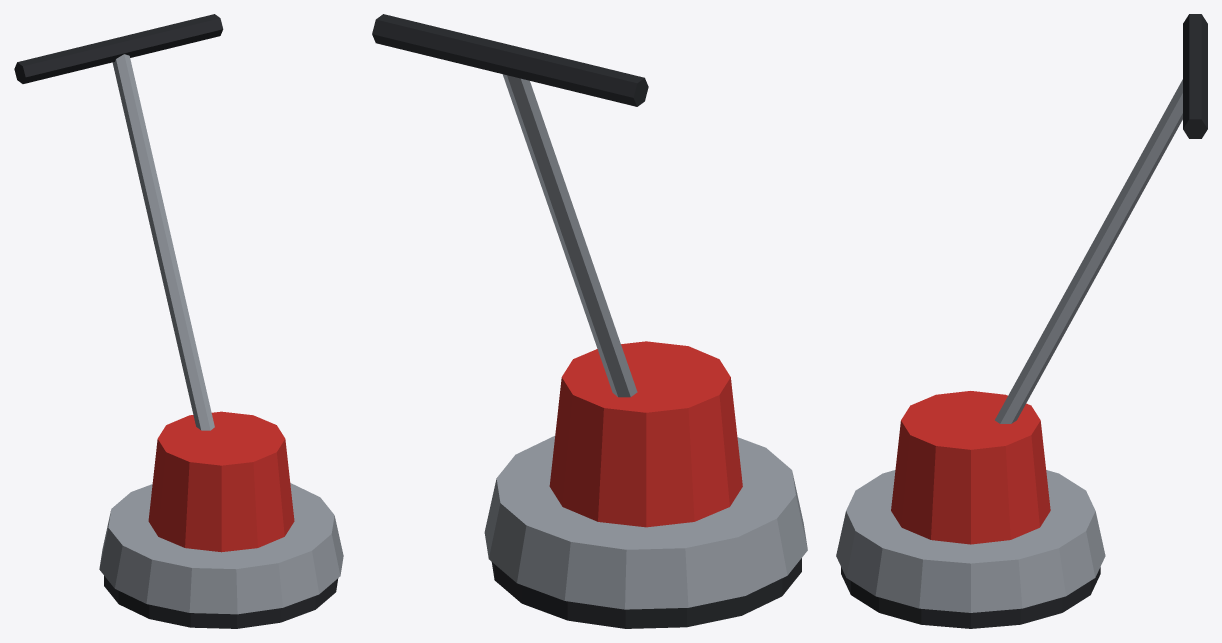
Rendered from floor_polisher.glb.
3 views of the same model, side by side, from view 1: azimuth 30°, elevation 25°; view 2: azimuth 150°, elevation 25°; view 3: azimuth 270°, elevation 25° (orthographic). The views are drawn at different scales.
Parts seen in each view (by area): view 1: disc_polisher_grey, motor_polisher_red, handle_polisher_grey, handle_polisher_black, disc_polisher_black; view 2: disc_polisher_grey, motor_polisher_red, handle_polisher_black, handle_polisher_grey, disc_polisher_black; view 3: disc_polisher_grey, motor_polisher_red, handle_polisher_grey, disc_polisher_black, handle_polisher_black.
Boxes of the visible parts, bbox=[...] form: disc_polisher_grey: bbox=[99, 483, 343, 614]; motor_polisher_red: bbox=[148, 411, 294, 552]; handle_polisher_grey: bbox=[112, 54, 214, 430]; handle_polisher_black: bbox=[14, 14, 223, 83]; disc_polisher_black: bbox=[104, 576, 338, 628]; disc_polisher_grey: bbox=[484, 436, 807, 609]; motor_polisher_red: bbox=[549, 341, 742, 527]; handle_polisher_black: bbox=[372, 14, 648, 106]; handle_polisher_grey: bbox=[502, 74, 637, 397]; disc_polisher_black: bbox=[491, 558, 801, 628]; disc_polisher_grey: bbox=[836, 470, 1105, 612]; motor_polisher_red: bbox=[891, 391, 1050, 544]; handle_polisher_grey: bbox=[995, 79, 1182, 423]; disc_polisher_black: bbox=[841, 567, 1100, 628]; handle_polisher_black: bbox=[1183, 14, 1207, 138].
Bounding box in the file's own units: 0.54 × 1.12 × 0.745.
